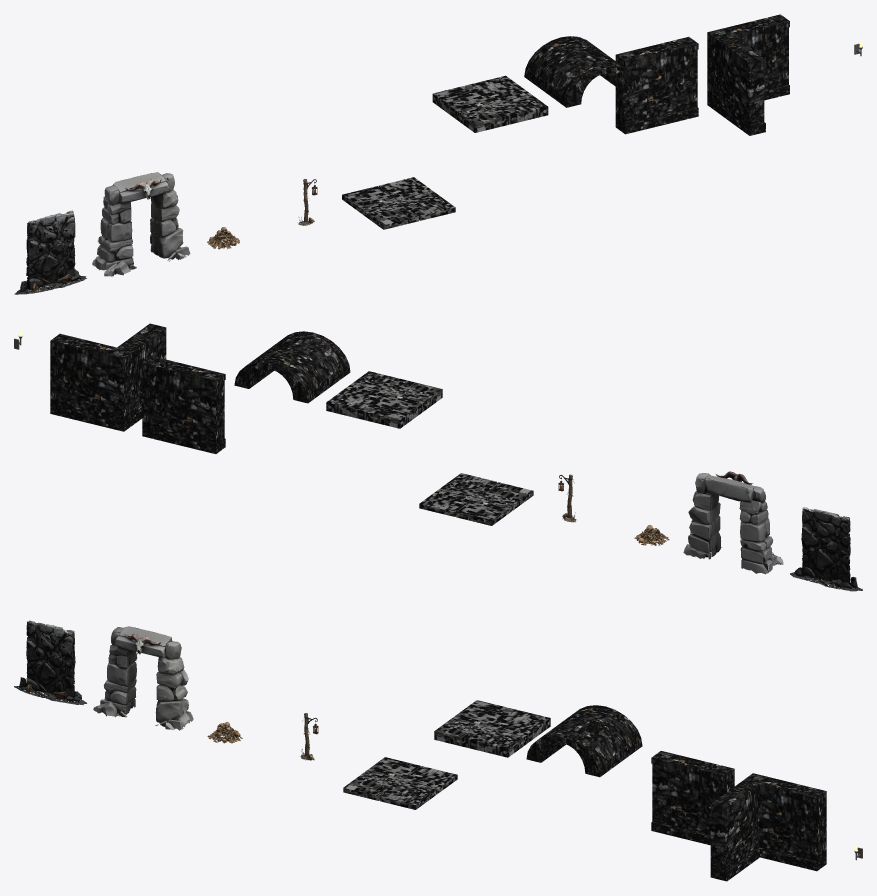
Rendered from dungeon-kit.glb.
3 views of the same model, one above another, from view 1: azimuth 30°, elevation 25°; view 2: azimuth 150°, elevation 25°; view 3: azimuth 330°, elevation 25° (orthographic).
Visible parts, largest first — view 1: hall_corner, hall_wall, cave_doorway, hall_vault, hall_ceiling, cave_wall, hall_floor; view 2: hall_corner, hall_wall, cave_doorway, hall_vault, hall_ceiling, cave_wall, hall_floor; view 3: hall_corner, cave_doorway, hall_wall, hall_vault, hall_ceiling, cave_wall, hall_floor.
Part boxes in pixels (x1,y1,x2,y2): hall_corner: (707,14,789,135); hall_wall: (615,37,698,134); cave_doorway: (92,172,190,276); hall_vault: (524,36,639,107); hall_ceiling: (432,75,548,132); cave_wall: (14,210,86,294); hall_floor: (342,177,455,229); hall_corner: (50,323,166,431); hall_wall: (142,356,225,453); cave_doorway: (683,471,783,574); hall_vault: (234,331,350,403); hall_ceiling: (326,371,442,428); cave_wall: (790,507,862,591); hall_floor: (419,473,533,525); hall_corner: (710,773,826,881); cave_doorway: (93,626,193,730); hall_wall: (651,751,734,845); hall_vault: (526,705,642,777); hall_ceiling: (434,700,550,757); cave_wall: (14,620,86,705); hall_floor: (343,757,457,809).
Bounding box in the file's own units: 46.13 × 5.65 × 4.
Materials: 6 (4 with a texture image).
